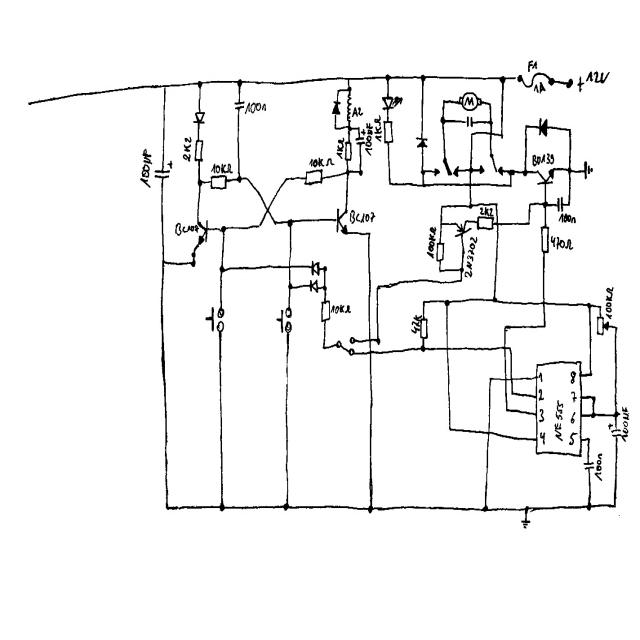capacitor: (154, 160, 173, 179), (607, 422, 622, 438), (355, 128, 366, 145), (556, 196, 564, 212), (234, 100, 245, 111), (583, 461, 595, 471), (465, 116, 474, 128)
crossover: (541, 299, 547, 307), (489, 130, 494, 138), (287, 264, 292, 271), (487, 429, 492, 436), (265, 207, 270, 214), (468, 181, 473, 188), (368, 337, 373, 343), (368, 349, 373, 355), (445, 345, 450, 351), (503, 345, 507, 351), (510, 377, 514, 382), (504, 377, 508, 382), (495, 222, 499, 226)
diode: (382, 95, 403, 110), (192, 111, 206, 125), (538, 118, 548, 137), (311, 260, 320, 277), (309, 279, 319, 294), (415, 137, 428, 148), (332, 101, 341, 115)
ground: (582, 161, 594, 180), (520, 519, 530, 529)
inductor: (346, 93, 352, 122)
junction: (218, 265, 226, 275), (220, 225, 227, 234), (420, 74, 427, 83), (499, 76, 506, 84), (508, 169, 516, 176), (197, 80, 203, 89), (237, 79, 243, 88), (420, 344, 426, 353), (237, 175, 243, 184), (287, 218, 293, 227), (440, 116, 446, 125), (587, 502, 592, 512), (482, 505, 489, 512), (197, 179, 203, 187), (444, 299, 450, 307), (283, 503, 289, 511), (219, 503, 225, 511), (191, 260, 197, 268), (385, 74, 391, 82), (468, 167, 474, 175), (375, 337, 381, 345), (368, 504, 373, 513), (345, 169, 351, 176), (358, 169, 364, 176), (492, 296, 498, 303), (542, 201, 548, 208), (160, 259, 167, 265), (467, 203, 474, 209), (591, 411, 596, 419), (524, 505, 529, 513), (388, 180, 393, 188), (488, 119, 493, 127), (523, 169, 528, 177), (613, 411, 619, 417), (347, 125, 352, 132), (288, 283, 293, 290), (322, 285, 327, 292), (488, 376, 493, 383), (567, 167, 572, 174), (612, 502, 617, 509), (257, 222, 262, 229), (367, 230, 372, 237), (587, 302, 591, 310), (422, 299, 427, 305), (459, 267, 464, 273), (508, 345, 513, 351), (542, 323, 547, 329), (448, 426, 453, 432), (586, 436, 591, 442), (244, 176, 249, 182), (273, 220, 278, 226), (375, 284, 380, 290), (567, 127, 572, 133), (524, 123, 529, 129), (421, 169, 426, 175), (488, 101, 493, 107), (439, 221, 444, 227), (494, 202, 499, 208), (336, 88, 341, 94), (347, 86, 352, 92), (163, 83, 167, 90), (323, 265, 327, 272), (527, 219, 531, 226), (500, 132, 504, 139), (422, 181, 426, 188), (614, 324, 618, 331), (528, 202, 533, 207), (322, 345, 326, 351), (438, 268, 442, 274), (503, 324, 507, 330), (505, 407, 509, 413), (592, 395, 596, 401), (165, 505, 169, 511), (285, 176, 289, 182), (509, 182, 513, 188), (598, 304, 602, 310), (333, 126, 337, 131), (459, 278, 463, 283), (511, 391, 515, 396), (567, 202, 571, 207), (589, 371, 593, 376), (442, 99, 446, 104), (470, 132, 474, 137), (440, 204, 444, 209), (347, 77, 351, 81), (357, 126, 360, 130)
resistor: (304, 169, 323, 186), (596, 314, 610, 336), (210, 174, 227, 191), (383, 119, 394, 145), (540, 226, 550, 254), (476, 216, 494, 231), (320, 299, 330, 323), (194, 139, 203, 164), (420, 317, 429, 340), (344, 141, 352, 163), (436, 242, 444, 262)
switch: (204, 305, 226, 333), (479, 152, 503, 176), (434, 157, 459, 178), (276, 306, 293, 335), (335, 336, 356, 356)
terminal: (566, 78, 573, 89), (26, 100, 33, 107)
text: (577, 71, 609, 92), (464, 236, 478, 278), (140, 148, 152, 188), (554, 399, 564, 442), (349, 209, 376, 224), (550, 235, 574, 251), (604, 286, 614, 322), (174, 222, 199, 236), (408, 312, 423, 335), (532, 152, 555, 167), (621, 405, 630, 443), (427, 226, 437, 259), (244, 101, 267, 115), (594, 453, 604, 482), (309, 157, 335, 168), (365, 122, 373, 157), (182, 136, 192, 163), (211, 163, 233, 175), (374, 115, 382, 142), (558, 213, 576, 225), (331, 304, 352, 314), (336, 137, 345, 160), (532, 81, 546, 94), (526, 59, 538, 72), (480, 206, 494, 217), (568, 432, 578, 446), (352, 107, 363, 118), (569, 411, 577, 425), (539, 431, 546, 446), (538, 408, 545, 423), (570, 390, 577, 403), (538, 388, 545, 401), (570, 371, 576, 384), (538, 372, 543, 383)
transistor: (193, 220, 209, 250), (335, 208, 349, 236), (537, 167, 555, 186), (454, 220, 472, 238)
